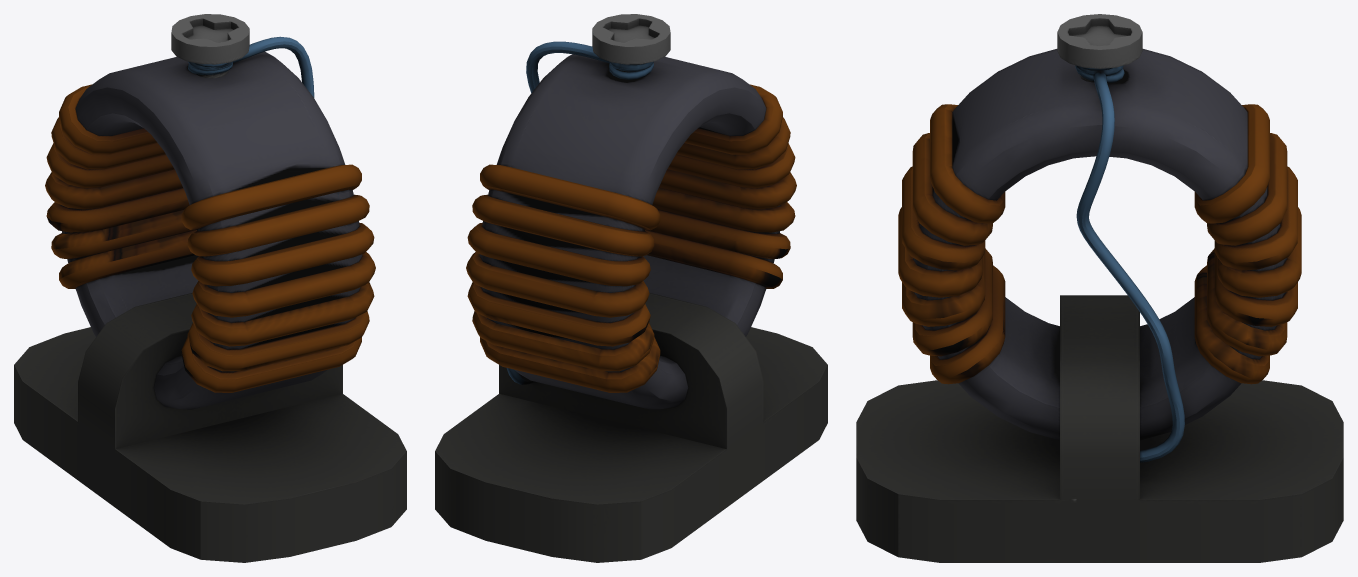
Rendered from Magnet.fbx.
The picture shows the model from 3 angles, left to right: view 1: azimuth 30°, elevation 25°; view 2: azimuth 150°, elevation 25°; view 3: azimuth 270°, elevation 25°; orthographic projection. The views are drawn at different scales.
Visible parts, largest first — view 1: magnet; view 2: magnet; view 3: magnet.
Boxes of the visible parts, x1,y1,x2,y2 form: magnet: (14,14,406,562); magnet: (435,14,827,562); magnet: (856,14,1343,562).
Size of the model in its own units: 408 by 746 by 700.
